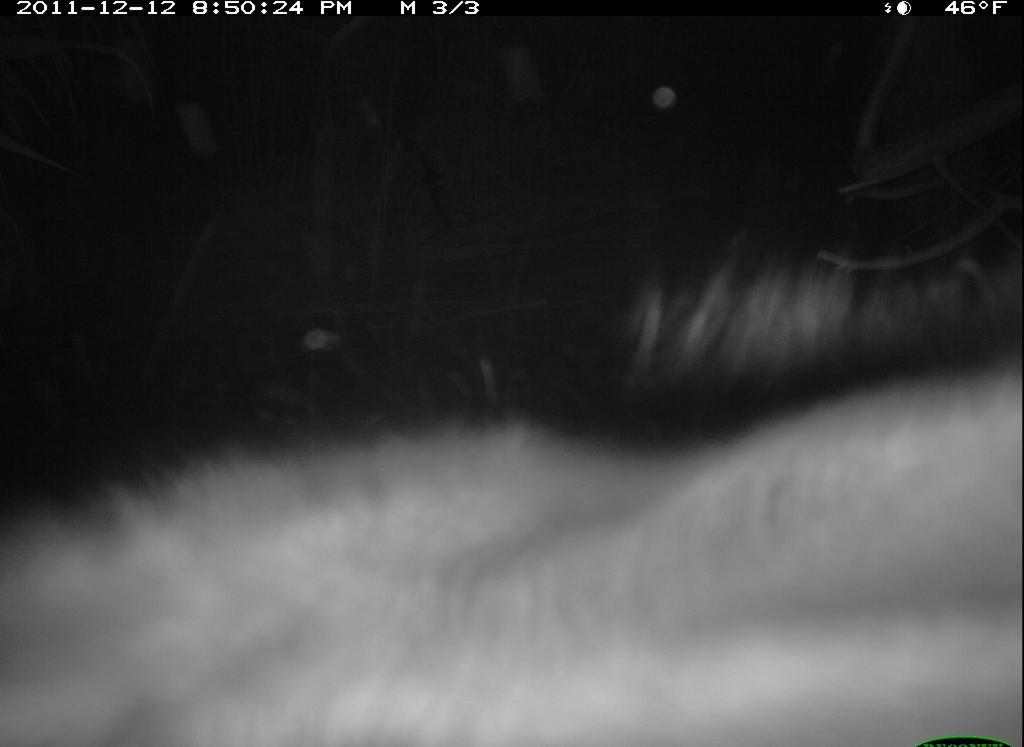raccoon: (1, 351, 1022, 747)
